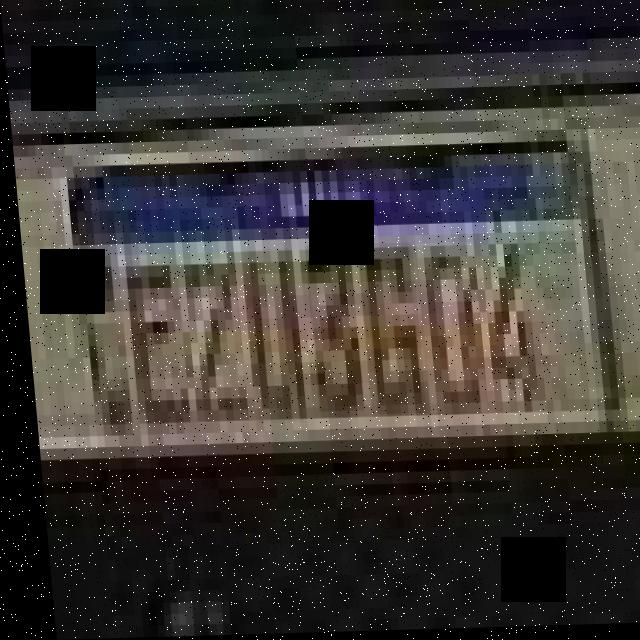0: (412, 245, 480, 416)
3: (300, 247, 356, 414)
4: (474, 234, 540, 418)
E: (118, 260, 185, 429)
G: (358, 245, 419, 416)
U: (239, 250, 296, 425)
Z: (178, 259, 240, 424)
